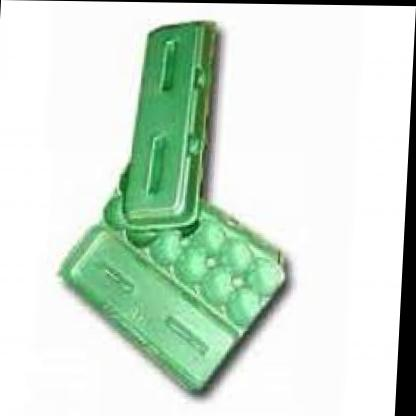Paper: (28, 0, 326, 400)
